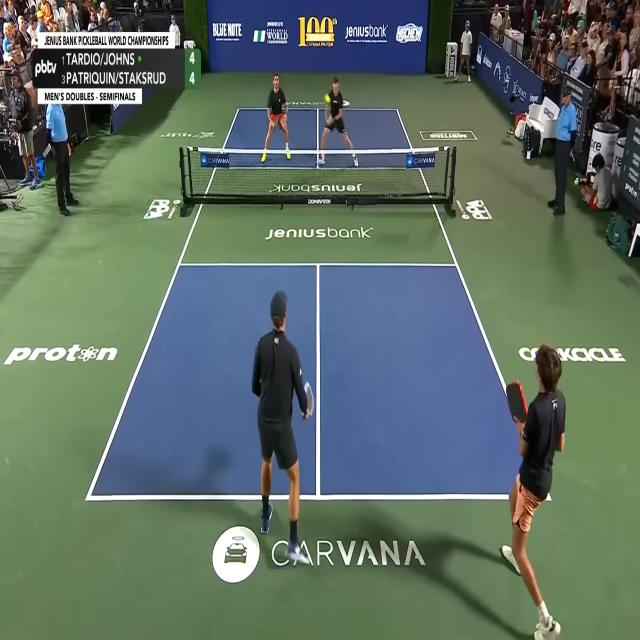ball: (325, 94, 330, 103)
